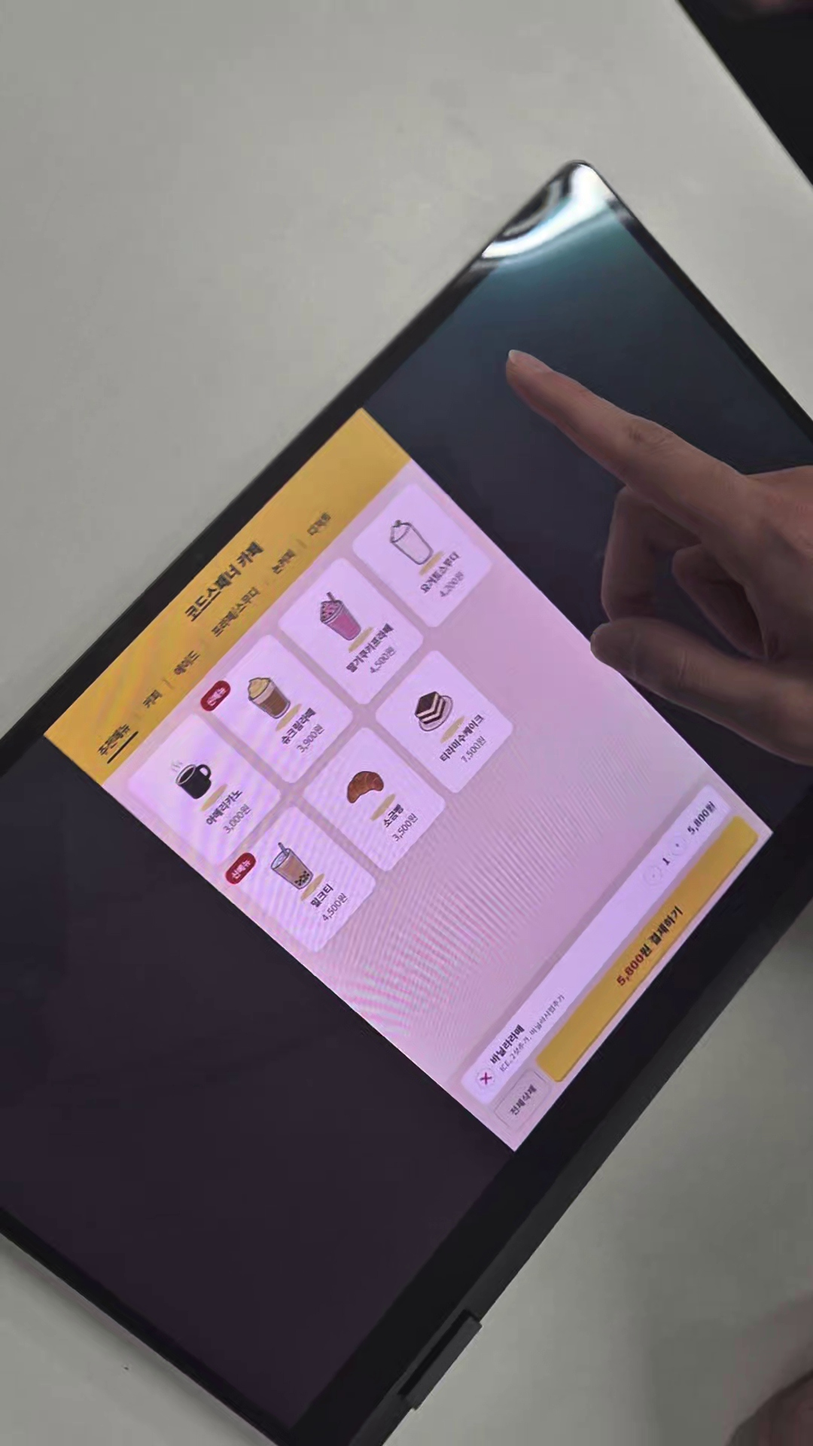action_button: (536, 814, 764, 1084), (495, 1067, 555, 1136)
cart_item: (457, 781, 737, 1105)
category_tab: (206, 581, 264, 643), (94, 715, 136, 763), (166, 642, 206, 688), (265, 542, 303, 583), (135, 679, 168, 722), (302, 509, 340, 546)
menu_back: (125, 713, 285, 871), (205, 632, 357, 785), (275, 555, 424, 707), (231, 802, 379, 955), (301, 724, 449, 873), (350, 483, 496, 627), (372, 650, 517, 794)
menu_name: (341, 617, 401, 677), (432, 708, 489, 768), (413, 547, 464, 598), (198, 783, 244, 828), (275, 703, 318, 751), (305, 878, 339, 915), (379, 799, 412, 835)
menu_price: (291, 721, 331, 762), (432, 565, 472, 602), (318, 891, 355, 930), (218, 800, 258, 836), (455, 733, 491, 773), (387, 811, 425, 847), (366, 644, 399, 679)
